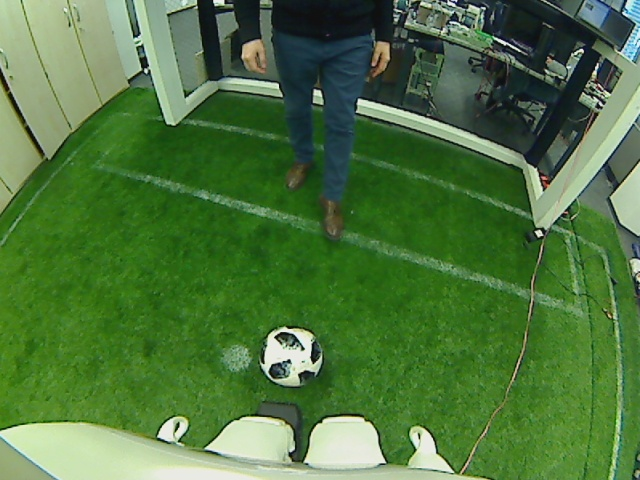ball: (257, 325, 324, 386)
